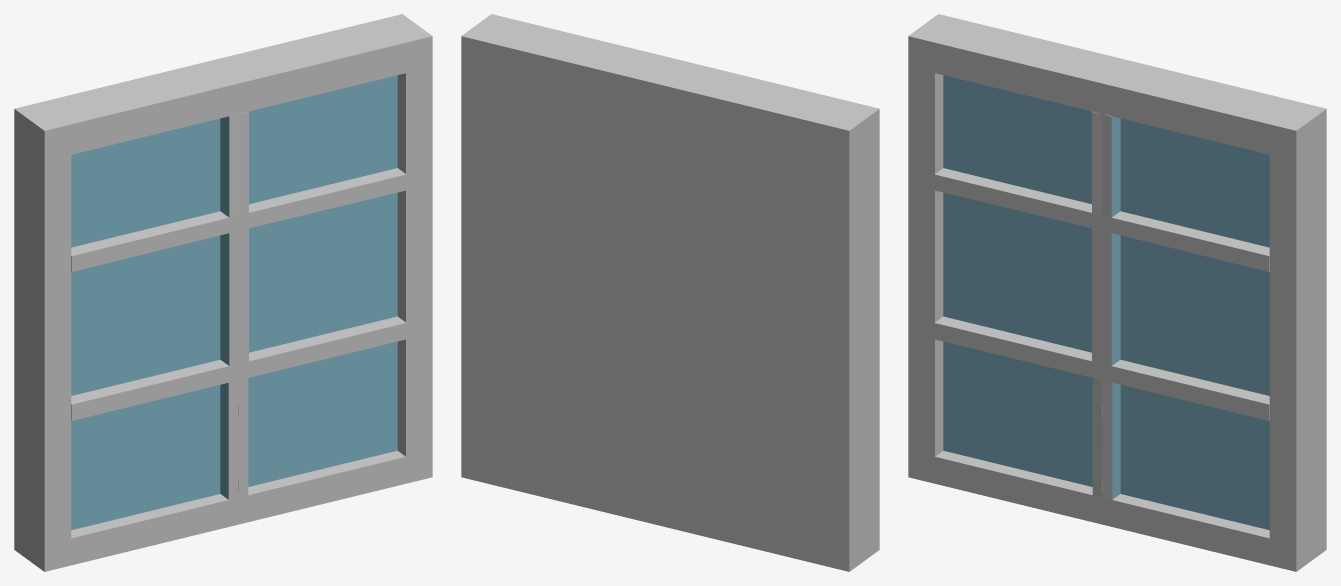
Rendered from Fenster.fbx.
The picture shows the model from 3 angles, left to right: view 1: azimuth 30°, elevation 25°; view 2: azimuth 150°, elevation 25°; view 3: azimuth 330°, elevation 25°; orthographic projection.
Parts seen in each view (by area): view 1: Cube; view 2: Cube; view 3: Cube.
Part boxes in pixels (x1,y1,x2,y2): Cube: (14,14,432,571); Cube: (461,14,879,571); Cube: (908,14,1326,571).
Bounding box in the file's own units: 232 × 252 × 31.89.
